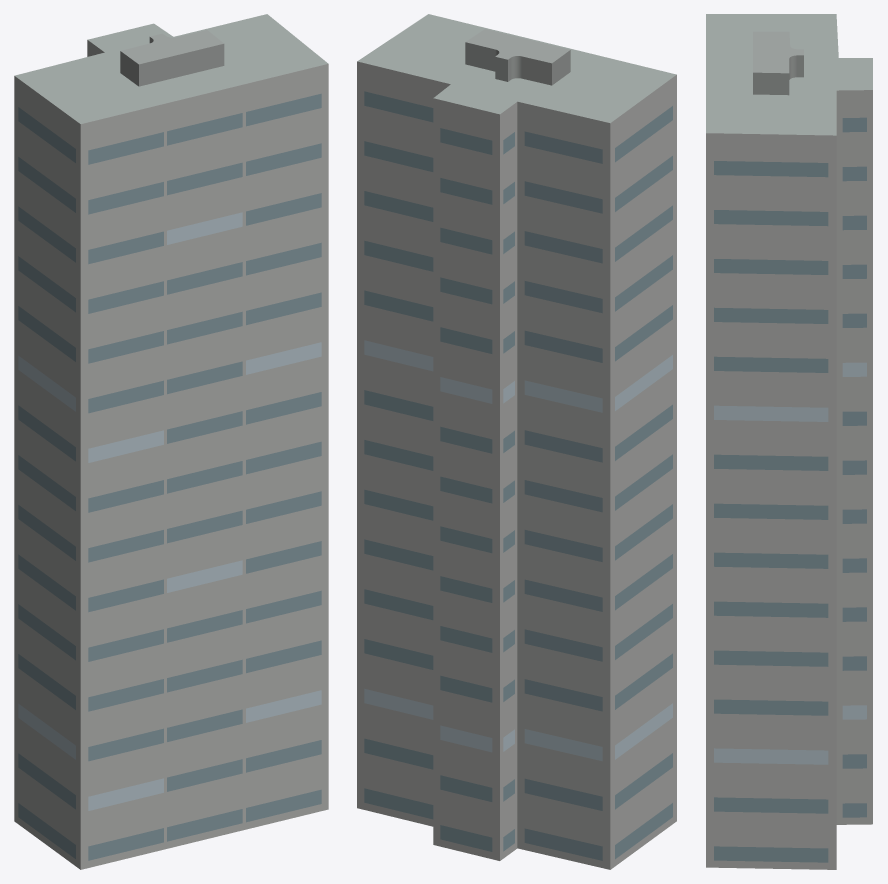
The model's file is fallback-gangdong-lotte-castle-first-108.glb.
The picture shows the model from 3 angles, left to right: view 1: azimuth 30°, elevation 25°; view 2: azimuth 150°, elevation 25°; view 3: azimuth 270°, elevation 25°; orthographic projection.
Parts seen in each view (by area): view 1: fallback-gangdong-lotte-castle-first-108; view 2: fallback-gangdong-lotte-castle-first-108; view 3: fallback-gangdong-lotte-castle-first-108.
Boxes of the visible parts, x1,y1,x2,y2 form: fallback-gangdong-lotte-castle-first-108: [14, 14, 328, 869]; fallback-gangdong-lotte-castle-first-108: [357, 14, 676, 869]; fallback-gangdong-lotte-castle-first-108: [706, 14, 872, 869].
Size of the model in its own units: 28.66 by 83 by 16.73.
